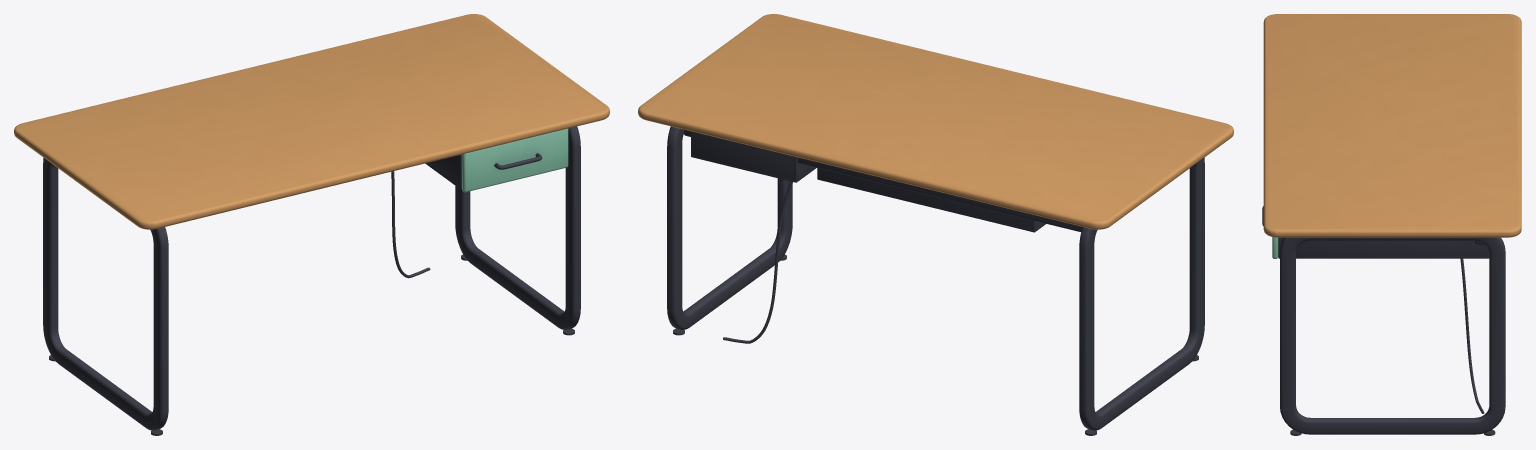
Rendered from office-desk.obj.
3 renders of one model, left to right at view 1: azimuth 30°, elevation 25°; view 2: azimuth 150°, elevation 25°; view 3: azimuth 270°, elevation 25°, orthographic. The views are drawn at different scales.
Parts seen in each view (by area): view 1: office-desk_body, office-desk_drawer; view 2: office-desk_body; view 3: office-desk_body.
Part boxes in pixels (x1=…): office-desk_body: x1=14, y1=14, x2=609, y2=435; office-desk_drawer: x1=462, y1=128, x2=568, y2=192; office-desk_body: x1=638, y1=14, x2=1233, y2=435; office-desk_body: x1=1263, y1=14, x2=1521, y2=435.
Bounding box in the file's own units: 1.6 × 0.74 × 0.8045.
